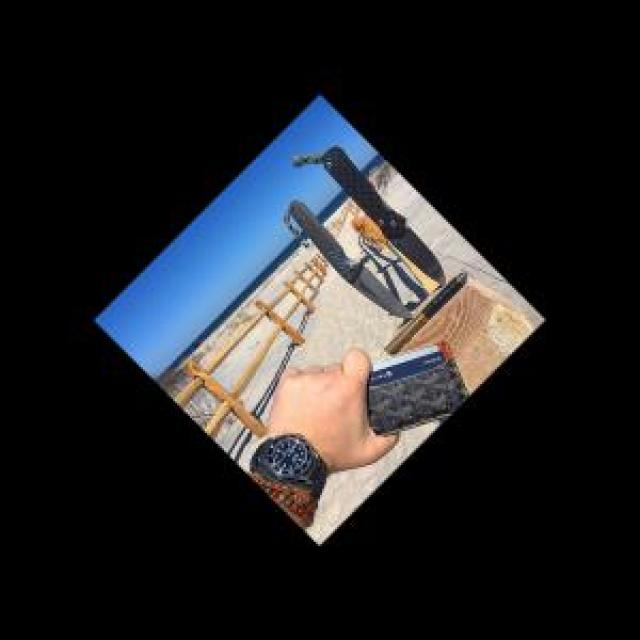knife: (314, 145, 452, 293), (284, 194, 416, 324)
